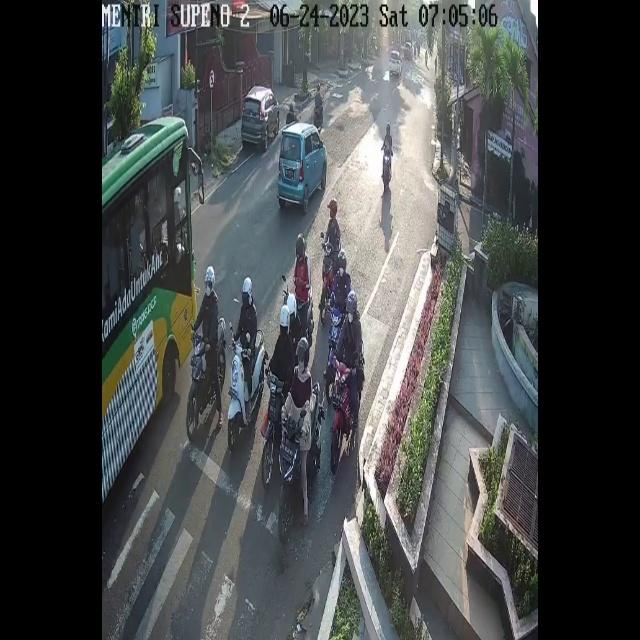bus: (276, 382, 321, 542), (228, 328, 266, 452), (188, 318, 226, 439), (332, 349, 364, 472), (259, 369, 283, 487), (319, 240, 339, 321), (326, 302, 344, 367), (302, 288, 314, 338), (382, 146, 392, 192), (313, 96, 324, 126)
car: (102, 117, 199, 506)
motorcycle: (279, 121, 327, 214), (240, 85, 280, 151), (388, 49, 402, 75)
